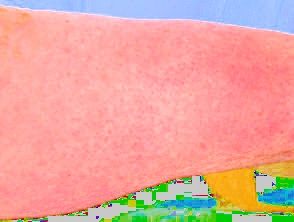SJS-TEN: (0, 2, 294, 222)
